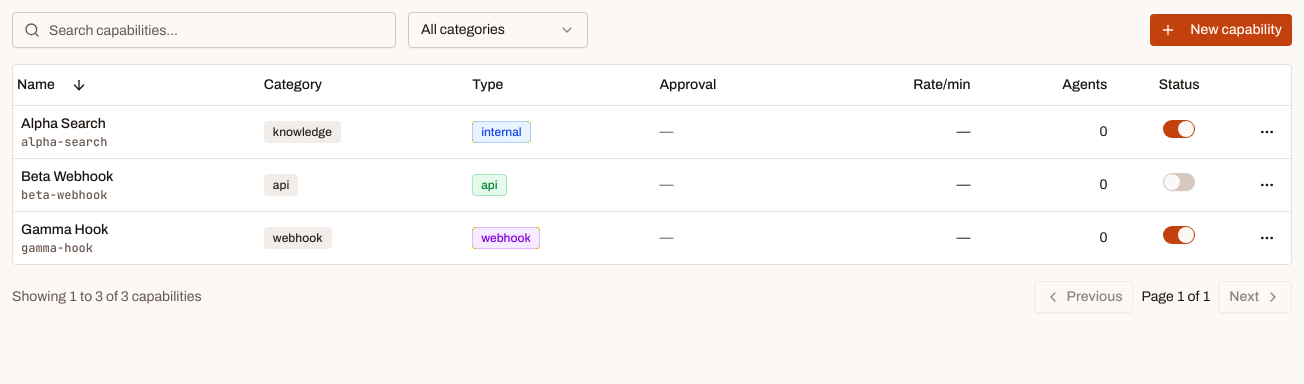
Test: CapabilitiesTable › status switch optimistic update › reverts switch and shows error on PATCH failure
Click the switch named "Toggle Alpha Search active": {"x": 1179, "y": 129} [1163,120,1195,138]
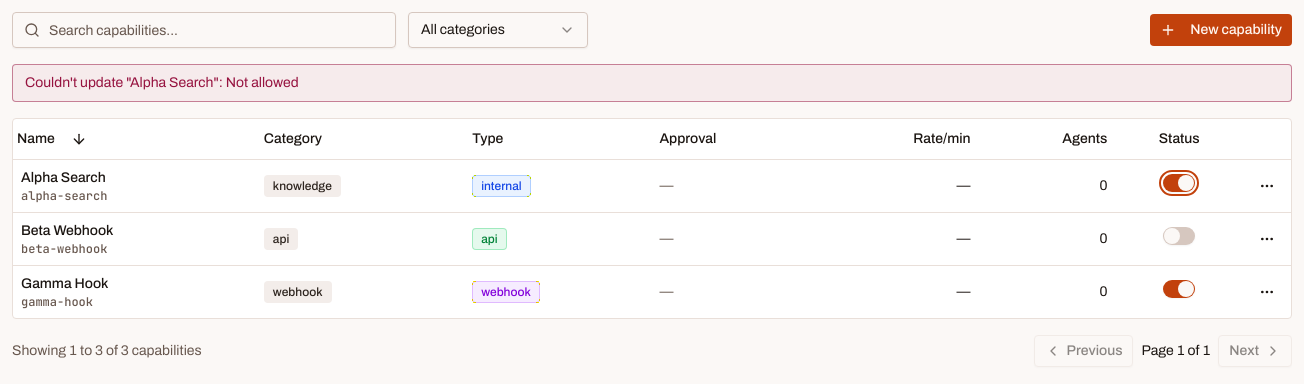
Now the text "Couldn't update \"Alpha Search\": Not allowed" is shown, box [12,64,1292,102]
